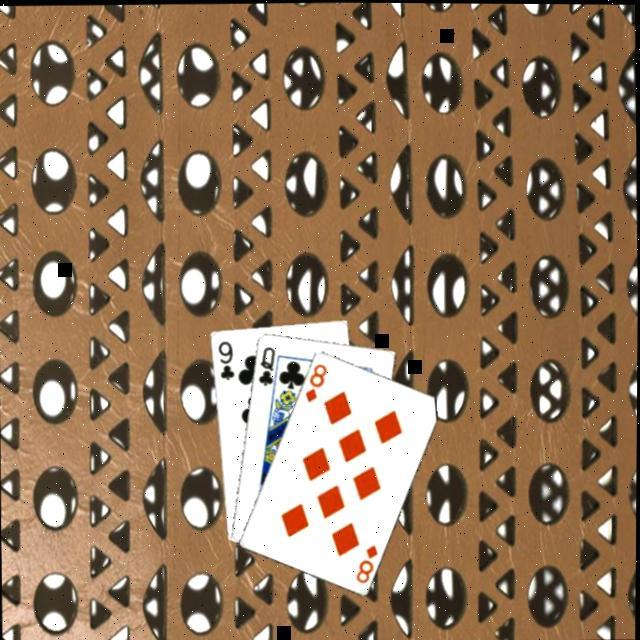8D: (300, 361, 329, 406), (350, 542, 379, 586)
9C: (212, 339, 235, 384)
QC: (253, 345, 276, 390)
